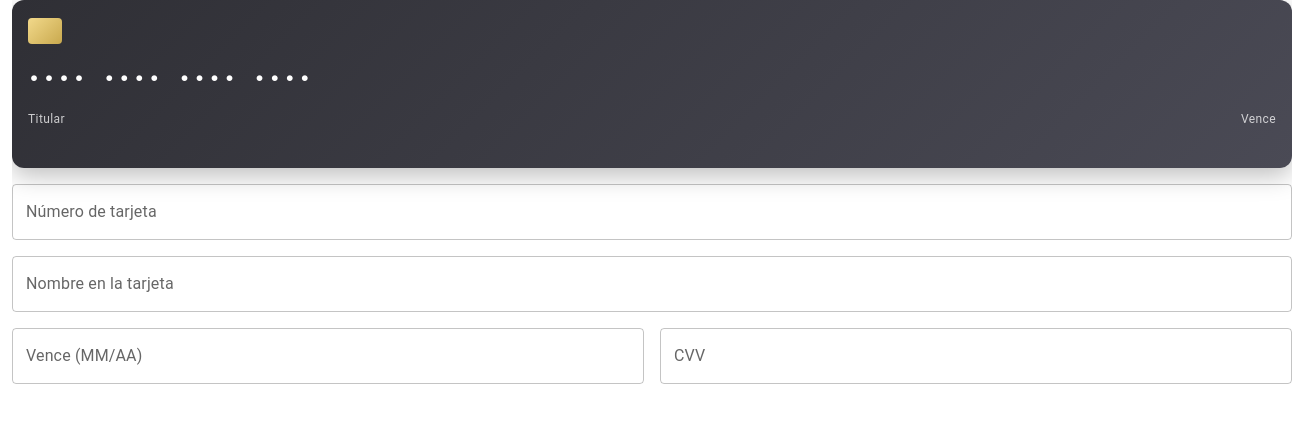
Test: CardForm › dice que solo se aceptan Visa y Mastercard ante una marca desconocida
In the field labelled "Número de tarjeta": (652, 212) [12, 184, 1292, 240], type "3782"
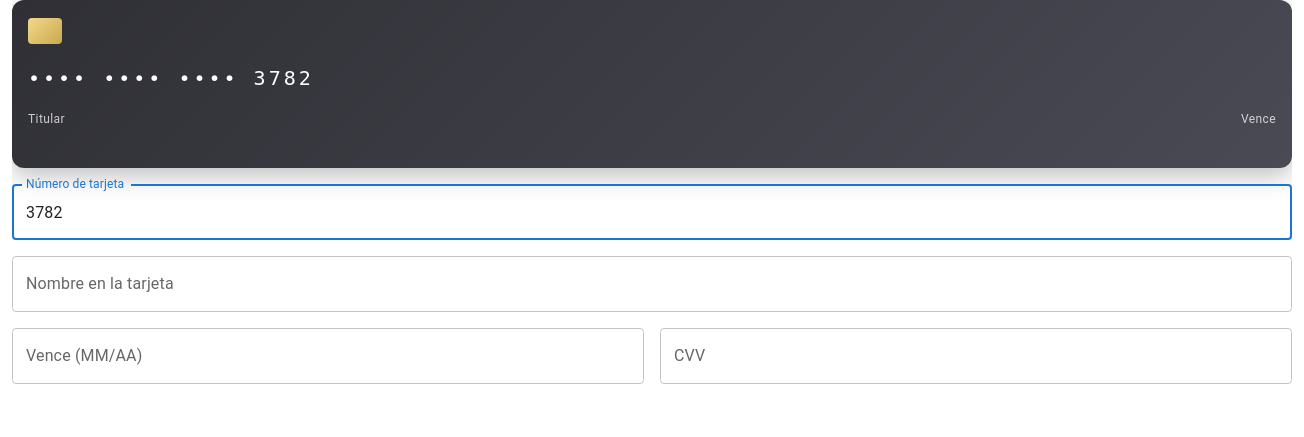
Press Tab
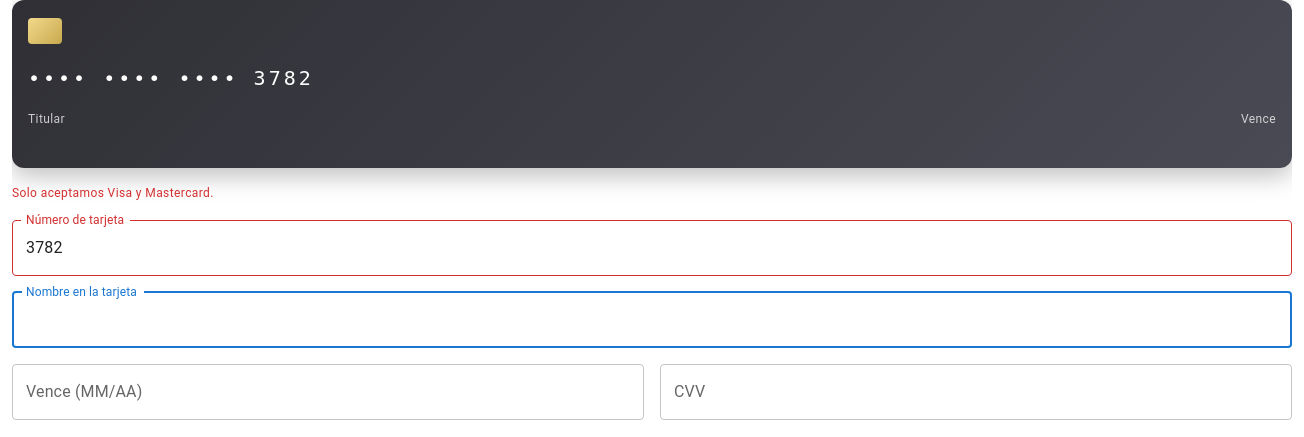
Check: the text "Solo aceptamos Visa y Mastercard." is shown, box [12, 186, 214, 200]
